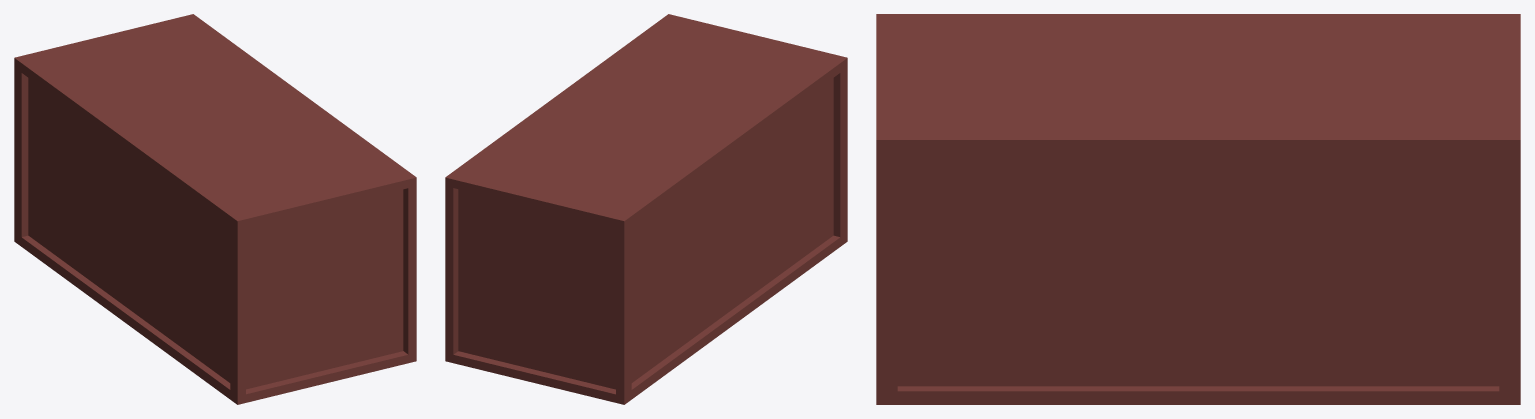
The model's file is container.fbx.
The picture shows the model from 3 angles, left to right: view 1: azimuth 30°, elevation 25°; view 2: azimuth 150°, elevation 25°; view 3: azimuth 270°, elevation 25°; orthographic projection. The views are drawn at different scales.
Visible parts, largest first — view 1: pCube1; view 2: pCube1; view 3: pCube1.
Boxes of the visible parts, <box> form: pCube1: <box>14,14,416,404</box>; pCube1: <box>445,14,847,404</box>; pCube1: <box>876,14,1520,404</box>.
Size of the model in its own units: 6 by 5.88 by 12.95.
